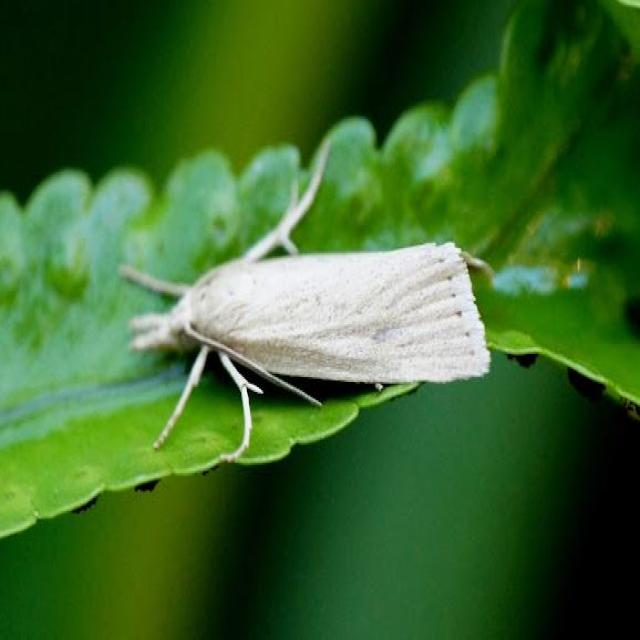rice stem borer -penggerek batang padi-: (117, 235, 492, 466)
